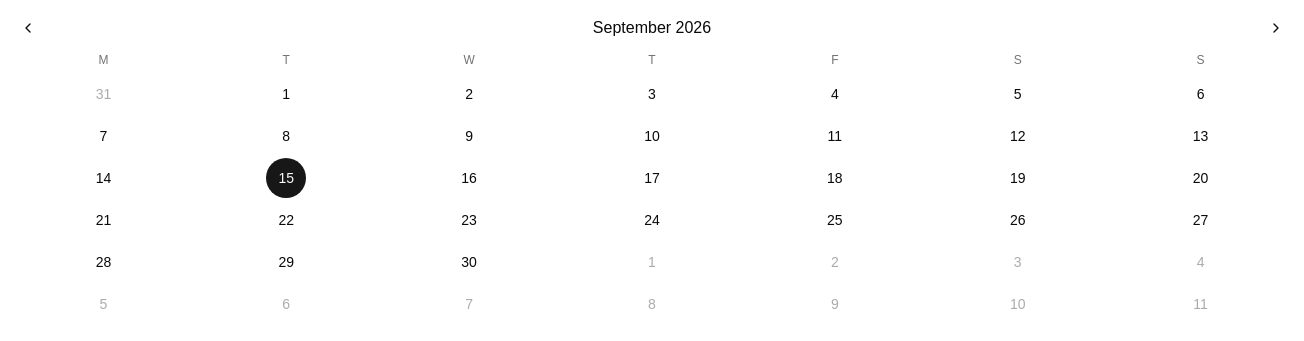
MonthCalendar › swipes left to the month before and right to the one after
Expected: the text "September 2026" is shown, [593, 16, 711, 40]
Press the mouse on the element that starts with "September 2026" at (652, 168), box [12, 12, 1292, 324]
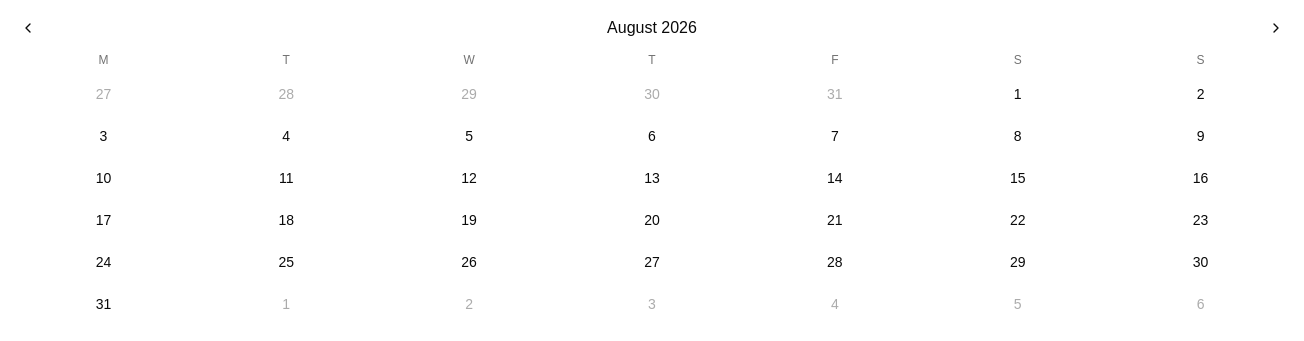
Result: the text "August 2026" is shown at [607, 16, 697, 40]
Press the mouse on the element that starts with "August 2026" at (652, 168), box [12, 12, 1292, 324]
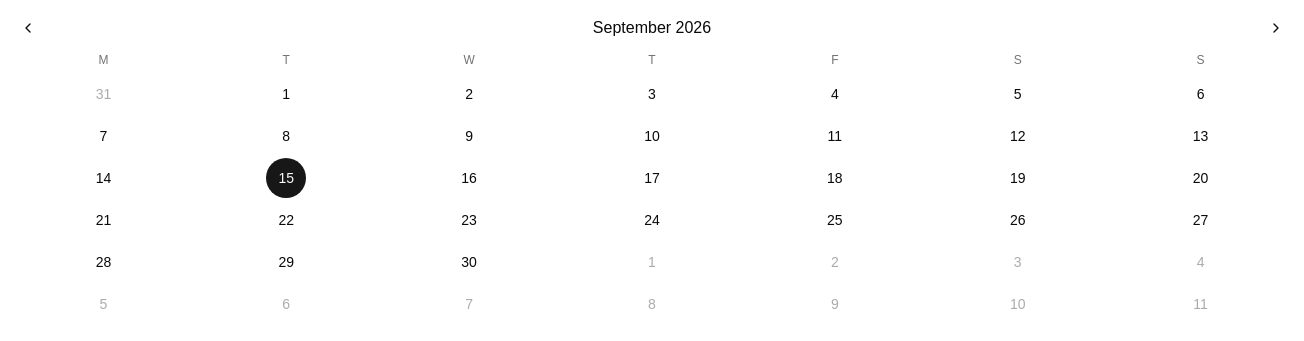
Press the mouse on the element that starts with "September 2026" at (652, 168), box [12, 12, 1292, 324]
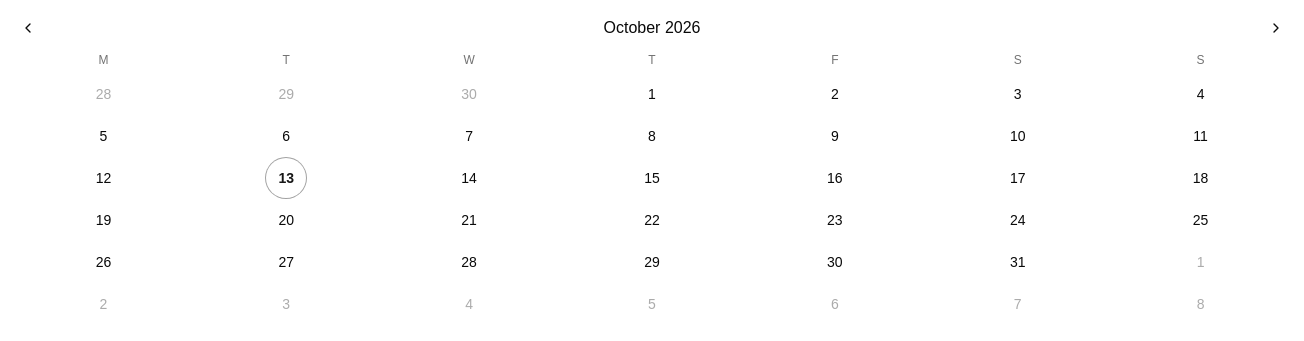
Result: the text "October 2026" is shown at [604, 16, 700, 40]
